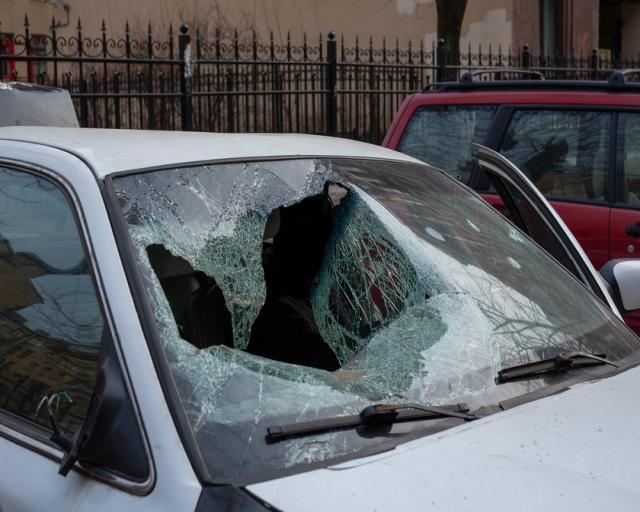glass shatter: (112, 158, 640, 477)
